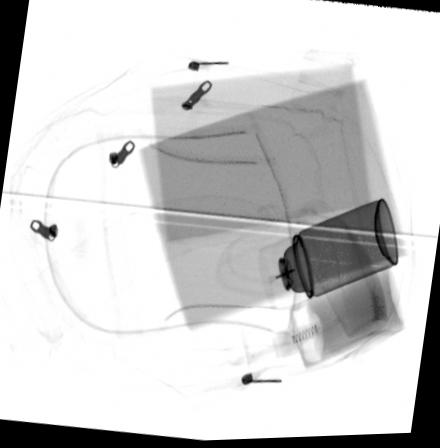Sprayer: (258, 200, 399, 313)
